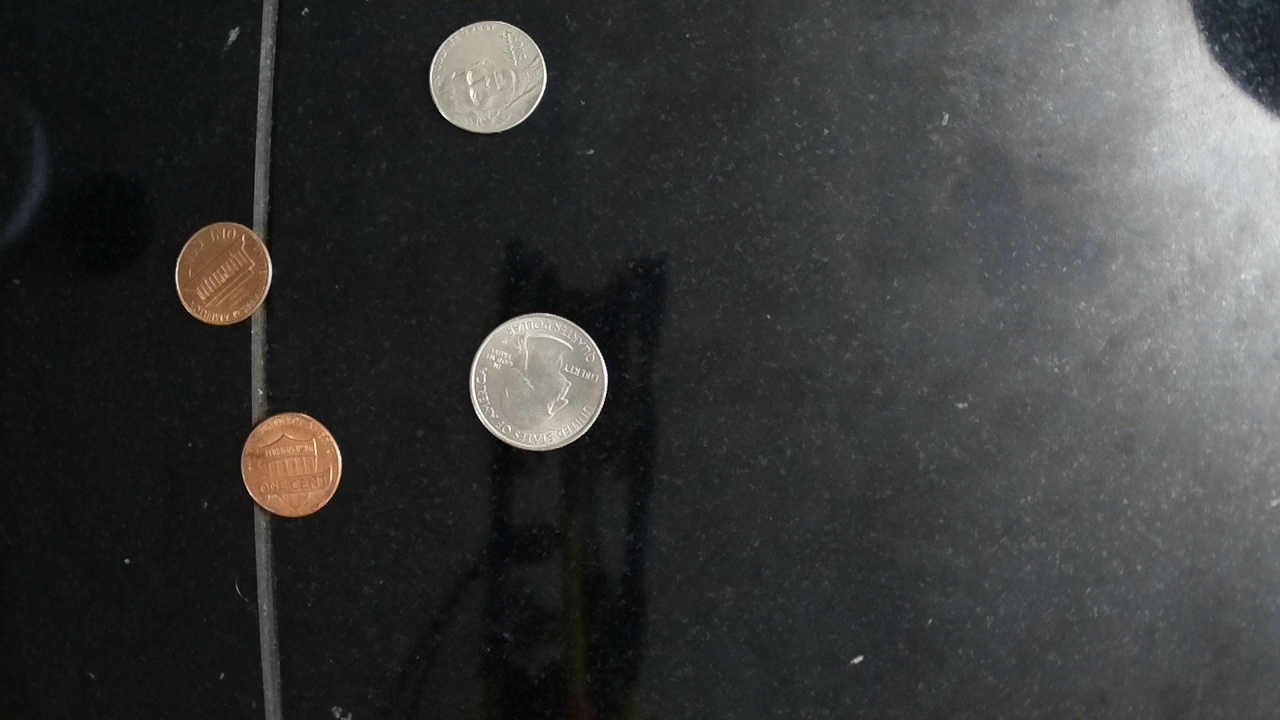nickel: (426, 16, 548, 136)
penny: (236, 408, 346, 520), (170, 218, 274, 328)
quarter: (464, 308, 610, 456)
